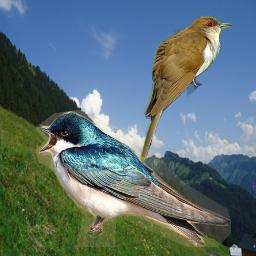Cuckoo: (139, 14, 232, 169)
Swallow: (36, 110, 231, 247)
